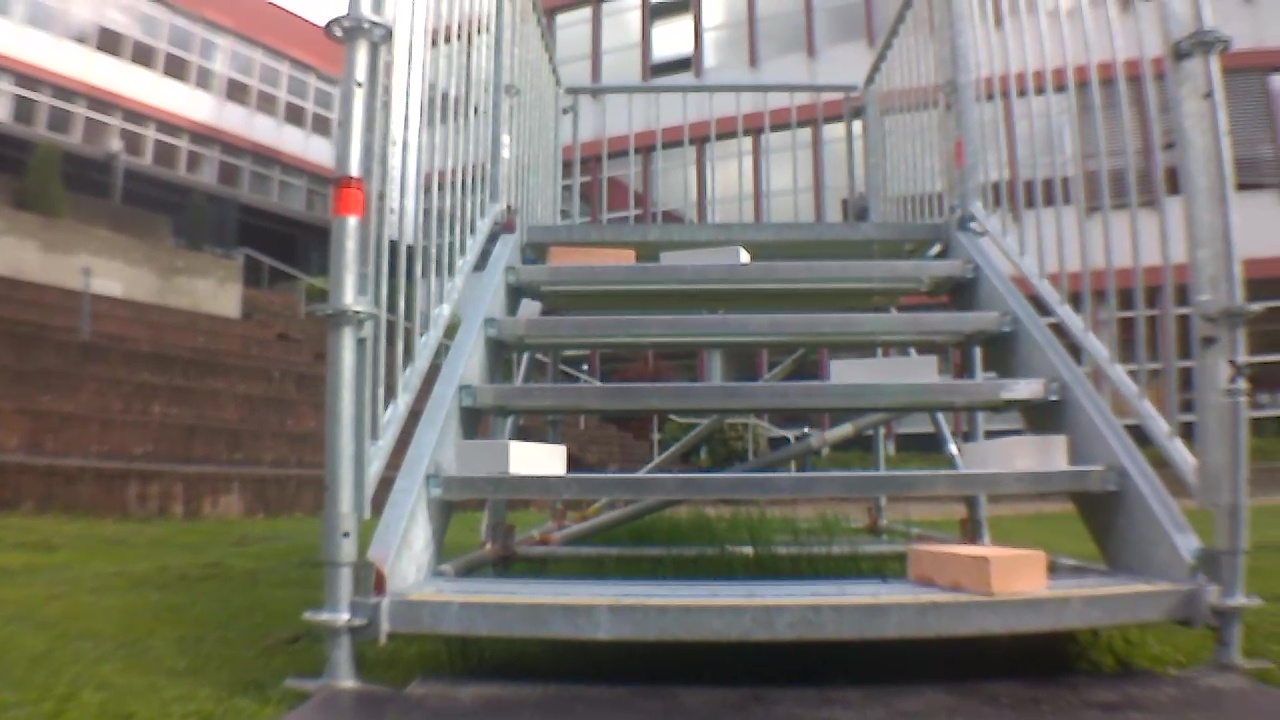brick: (908, 543, 1047, 594), (457, 439, 566, 474), (962, 435, 1067, 470), (830, 355, 937, 382), (661, 245, 751, 264), (549, 247, 634, 264)
edge: (388, 584, 1196, 638), (427, 466, 1125, 499), (456, 378, 1070, 405), (486, 311, 1016, 334), (504, 260, 979, 281), (527, 222, 946, 239)
stairs: (312, 3, 1263, 663)
steps: (382, 214, 1200, 646)
